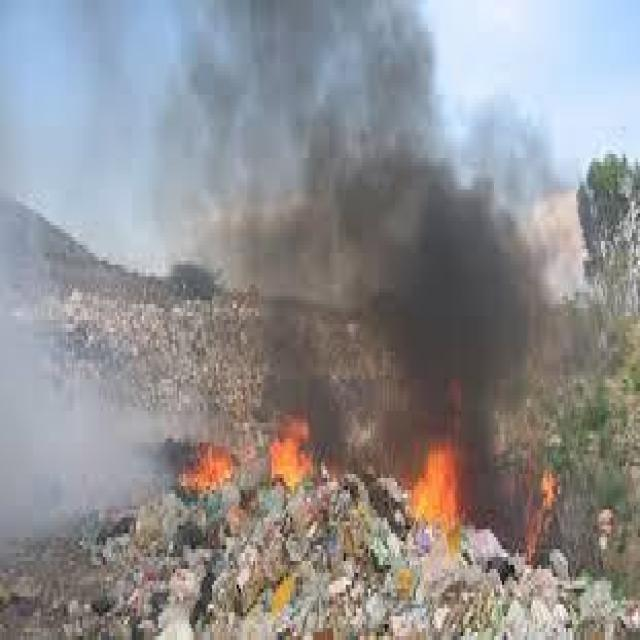Fire: (402, 403, 476, 541), (172, 422, 254, 506), (512, 464, 570, 564), (261, 407, 323, 494)
Smoke: (171, 2, 558, 405), (1, 70, 166, 550)
